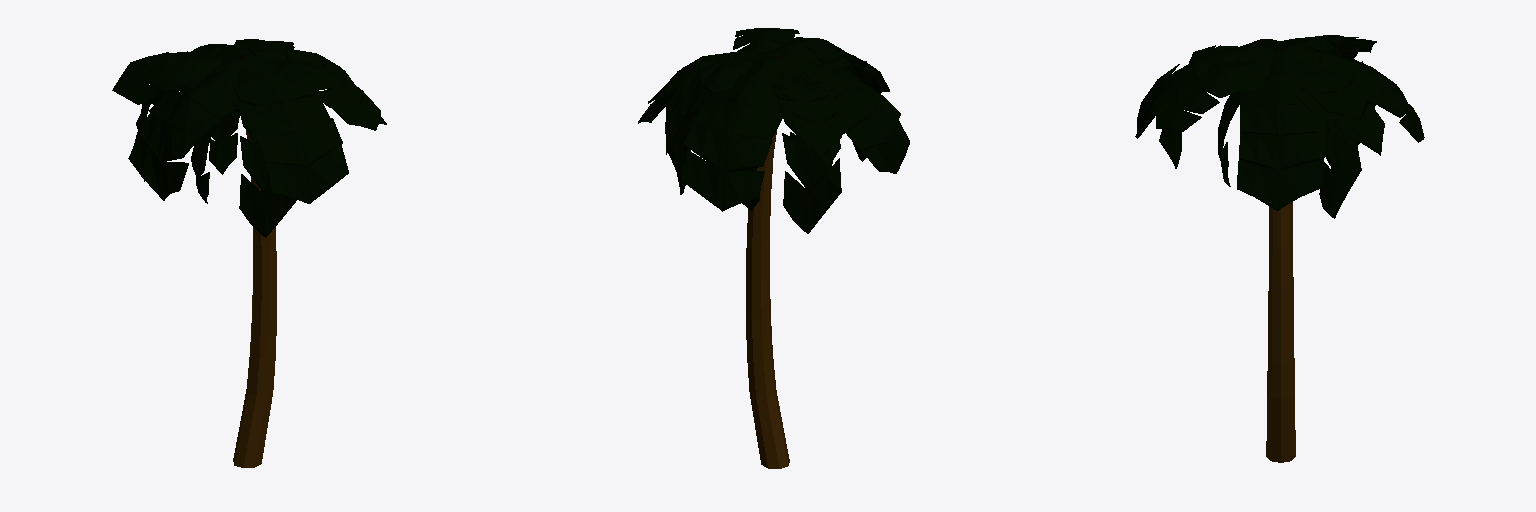
The model's file is tree_model1.obj.
3 renders of one model, left to right at view 1: azimuth 30°, elevation 25°; view 2: azimuth 150°, elevation 25°; view 3: azimuth 270°, elevation 25°, orthographic.
Visible parts, largest first — view 1: Cylinder_Cylinder.001; view 2: Cylinder_Cylinder.001; view 3: Cylinder_Cylinder.001.
Part boxes in pixels (x1,y1,x2,y2): Cylinder_Cylinder.001: (112, 39, 386, 467); Cylinder_Cylinder.001: (638, 28, 909, 468); Cylinder_Cylinder.001: (1135, 35, 1424, 462).
Bounding box in the file's own units: 6.23 × 10.23 × 6.55.